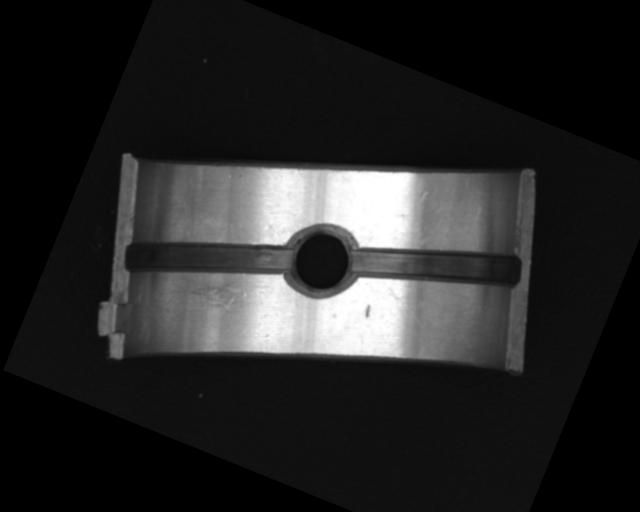bruise: (361, 303, 374, 321)
gap: (119, 191, 296, 326), (349, 202, 523, 329)
hole: (276, 215, 368, 306)
scratch: (169, 250, 267, 325)
